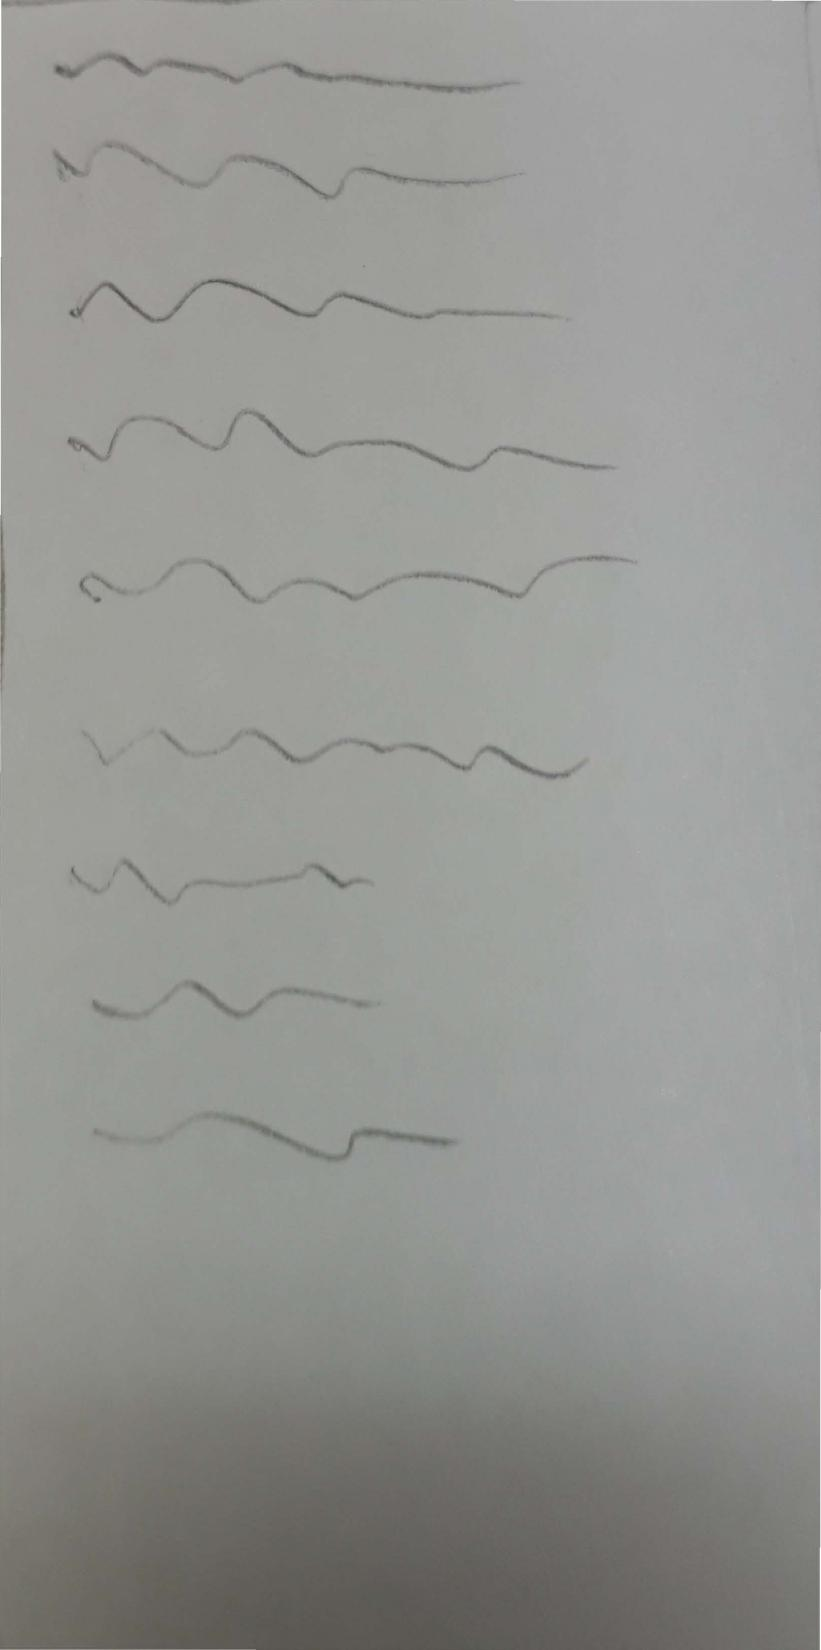Label: (51, 44, 640, 1163)
Screen: (0, 0, 820, 1649)
